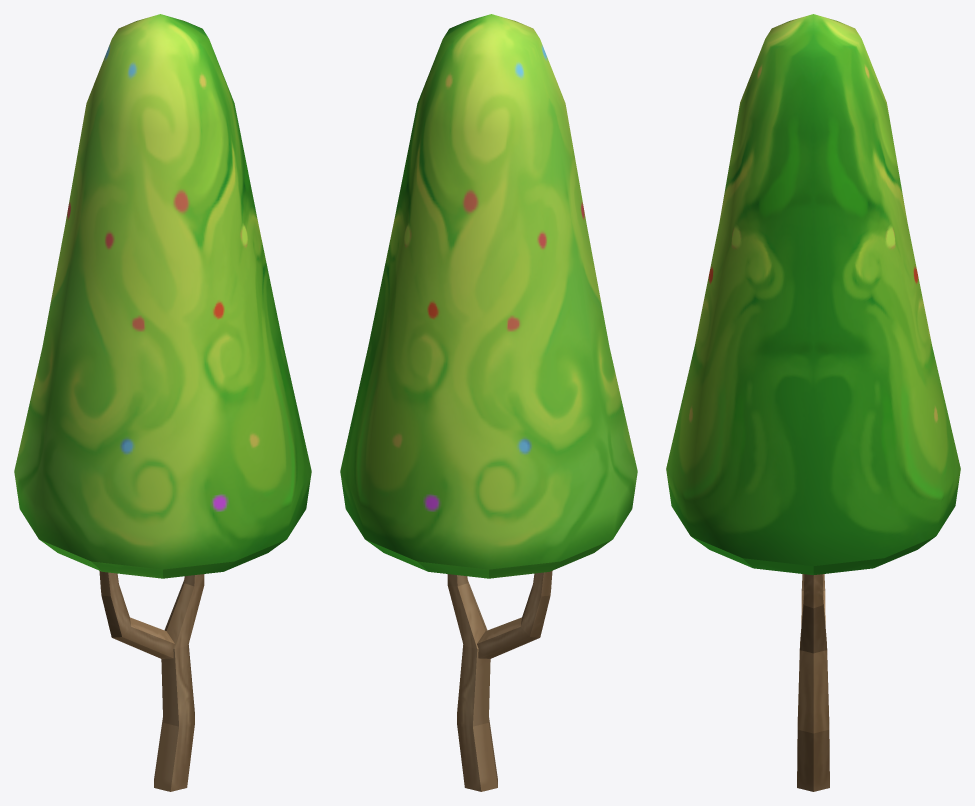
Rendered from zhucheng_shu03.FBX.
3 views of the same model, side by side, from view 1: azimuth 30°, elevation 25°; view 2: azimuth 150°, elevation 25°; view 3: azimuth 270°, elevation 25° (orthographic).
Visible parts, largest first — view 1: zhucheng_shu03; view 2: zhucheng_shu03; view 3: zhucheng_shu03.
Boxes of the visible parts, left/top/right/bottom form: zhucheng_shu03: left=14, top=14, right=311, bottom=791; zhucheng_shu03: left=340, top=14, right=637, bottom=791; zhucheng_shu03: left=666, top=14, right=960, bottom=791.
Size of the model in its own units: 97.5 by 279 by 97.5.
